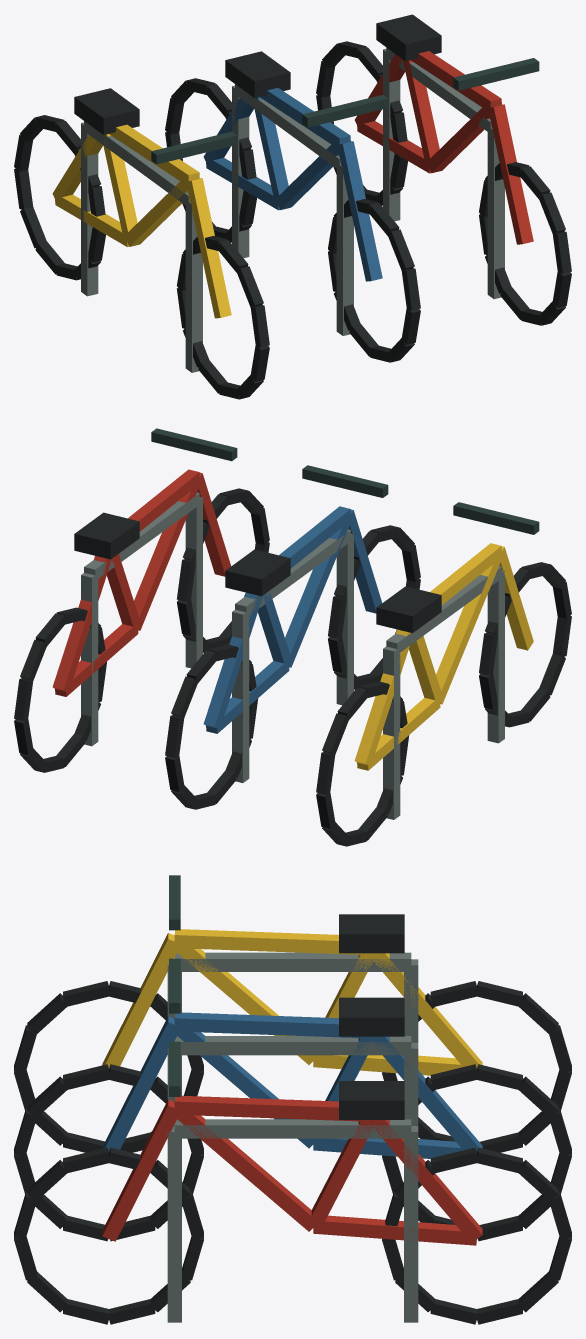
Rendered from BicycleRack.obj.
3 renders of one model, top to bottom at view 1: azimuth 30°, elevation 25°; view 2: azimuth 150°, elevation 25°; view 3: azimuth 270°, elevation 25°, orthographic. The views are drawn at different scales.
Visible parts, largest first — view 1: BicycleRack; view 2: BicycleRack; view 3: BicycleRack.
Boxes of the visible parts, x1=… form: BicycleRack: x1=14, y1=14, x2=571, y2=399; BicycleRack: x1=14, y1=428, x2=571, y2=846; BicycleRack: x1=14, y1=875, x2=571, y2=1324.
Size of the model in its own units: 1.9 by 1.08 by 2.12.
Materials: 1 (1 with a texture image).
